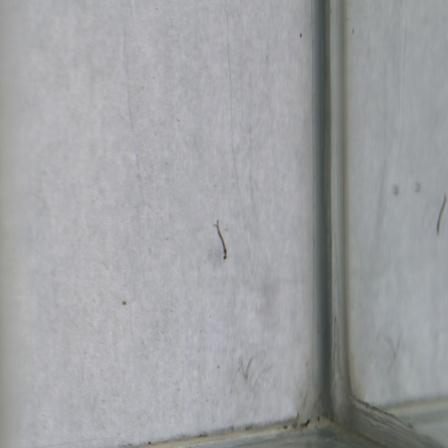Jentik-Nyamuk: (208, 215, 233, 266)
